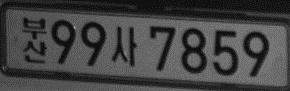5: (212, 30, 238, 76)
7: (150, 25, 175, 70)
8: (180, 27, 207, 73)
9: (242, 31, 269, 77), (80, 21, 106, 66), (51, 18, 75, 64)
부산_V: (22, 16, 48, 64)
사: (111, 26, 137, 67)
